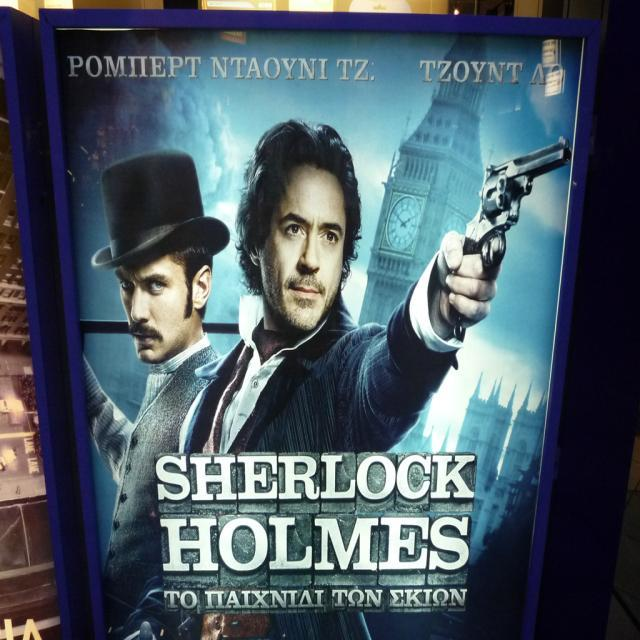Gun: (464, 138, 571, 269)
